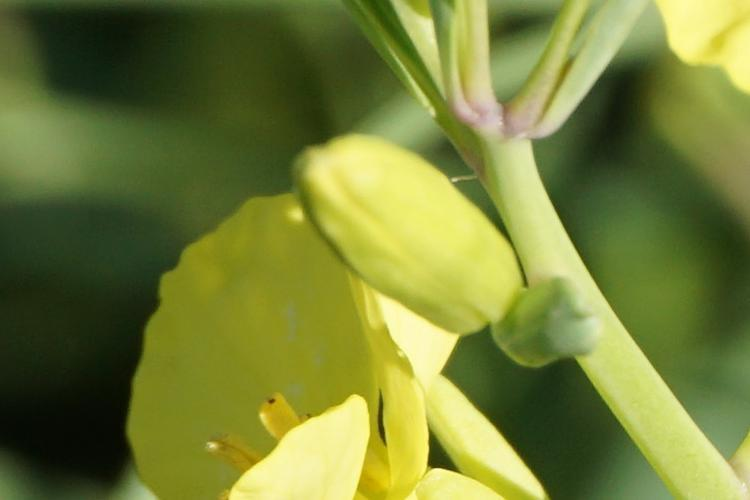bud: (307, 137, 520, 330)
yellow: (136, 158, 516, 500)
